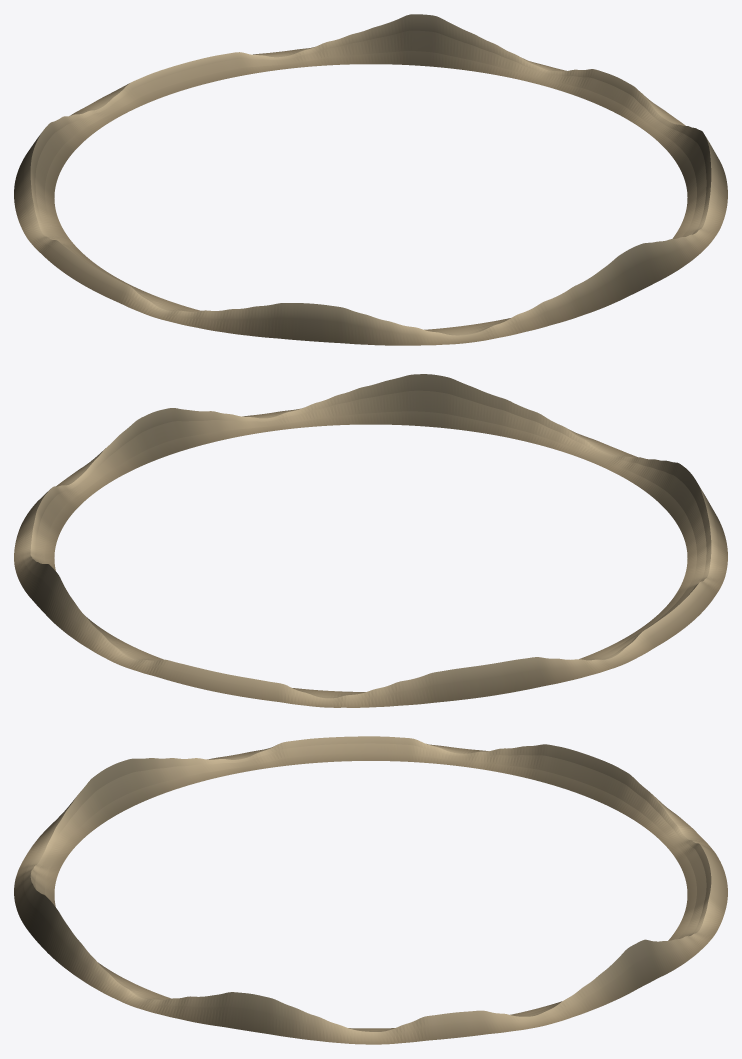
File: far_mountains_ring.glb
The picture shows the model from 3 angles, top to bottom: view 1: azimuth 30°, elevation 25°; view 2: azimuth 150°, elevation 25°; view 3: azimuth 270°, elevation 25°; orthographic projection.
Parts seen in each view (by area): view 1: geometry_0; view 2: geometry_0; view 3: geometry_0.
Part boxes in pixels (x1=…): geometry_0: x1=14, y1=14, x2=727, y2=345; geometry_0: x1=14, y1=374, x2=727, y2=707; geometry_0: x1=14, y1=736, x2=727, y2=1044.
Size of the model in its own units: 3357 by 220 by 3357.
